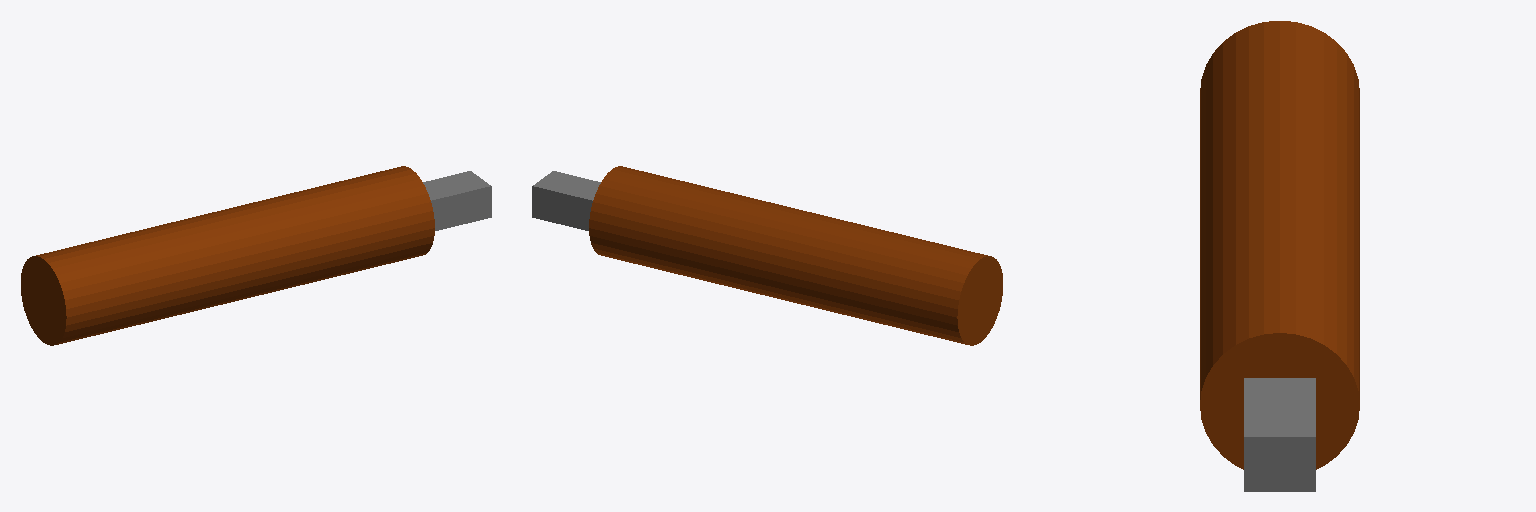
The robot description file, URDF, robot "handle_head":
<?xml version="1.0"?>
<robot name="handle_head">

  <link name="handle_head">
    <!-- Handle -->
    <visual>
              <origin xyz="0 0 0" rpy="0 -1.5707963267948966 0"/>
        <geometry>
          <cylinder length="0.08134216406299377" radius="0.008813159616413956"/>
        </geometry>
        
      <material name="brown">
        <color rgba="0.55 0.27 0.07 1.0"/>
      </material>
    </visual>
    <collision>
              <origin xyz="0 0 0" rpy="0 -1.5707963267948966 0"/>
        <geometry>
          <cylinder length="0.08134216406299377" radius="0.008813159616413956"/>
        </geometry>
        
    </collision>

    <!-- Head -->
    <visual>
              <origin xyz="0.04829907695990976 0 0" rpy="0 0 0"/>
        <geometry>
          <box size="0.015255989856825743 0.007986747667713266 0.006673579015004971"/>
        </geometry>
        
      <material name="gray">
        <color rgba="0.5 0.5 0.5 1.0"/>
      </material>
    </visual>
    <collision>
              <origin xyz="0.04829907695990976 0 0" rpy="0 0 0"/>
        <geometry>
          <box size="0.015255989856825743 0.007986747667713266 0.006673579015004971"/>
        </geometry>
        
    </collision>

    <inertial>
      <origin xyz="0.0014489616482870398 0 0" rpy="0 0 0"/>
      <mass value="0.011813984521664109"/>
      <inertia ixx="4.370065662212958e-07" iyy="9.352125184639067e-06" izz="9.352693772215097e-06" ixy="0" ixz="0" iyz="0"/>
    </inertial>
  </link>

</robot>

--- What the picture shows (computed from the rendered views, not written in the file) ---
The picture shows the robot from 3 angles, left to right: view 1: azimuth 30°, elevation 25°; view 2: azimuth 150°, elevation 25°; view 3: azimuth 270°, elevation 25°; orthographic projection.
Robot: handle_head — 1 links, 0 joints (none); root link handle_head; default pose: all joints at 0.
Links seen in each view (by area): view 1: handle_head; view 2: handle_head; view 3: handle_head.
Link boxes in pixels (<box>): handle_head: <box>21,166,491,345</box>; handle_head: <box>532,166,1002,345</box>; handle_head: <box>1200,21,1359,491</box>.
Bounding box of the posed robot: 0.0966 × 0.0176 × 0.0176 m (x, y, z).
Geometry: primitives only (box / cylinder / sphere), no mesh files.
